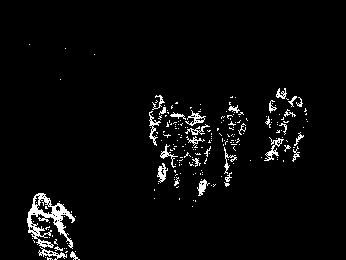person: (27, 190, 79, 260), (218, 95, 248, 189), (185, 100, 211, 200), (166, 102, 189, 190), (150, 95, 172, 185), (284, 94, 309, 164), (268, 85, 290, 162)
